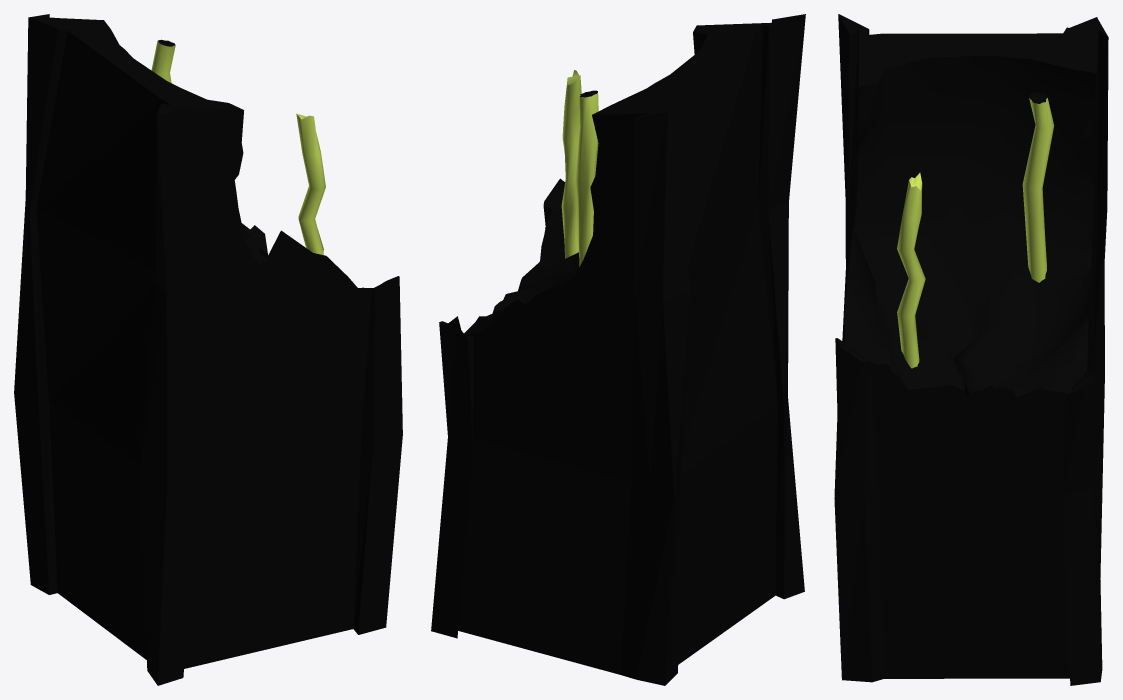
The model's file is broken_column02.fbx.
3 views of the same model, side by side, from view 1: azimuth 30°, elevation 25°; view 2: azimuth 150°, elevation 25°; view 3: azimuth 270°, elevation 25° (orthographic). The views are drawn at different scales.
Visible parts, largest first — view 1: Box023; view 2: Box023; view 3: Box023.
Part boxes in pixels (box(x1,y1,x2,y2)): Box023: box(14, 14, 402, 685); Box023: box(431, 14, 805, 685); Box023: box(834, 14, 1108, 685).
Bounding box in the file's own units: 55.13 × 52.94 × 119.
